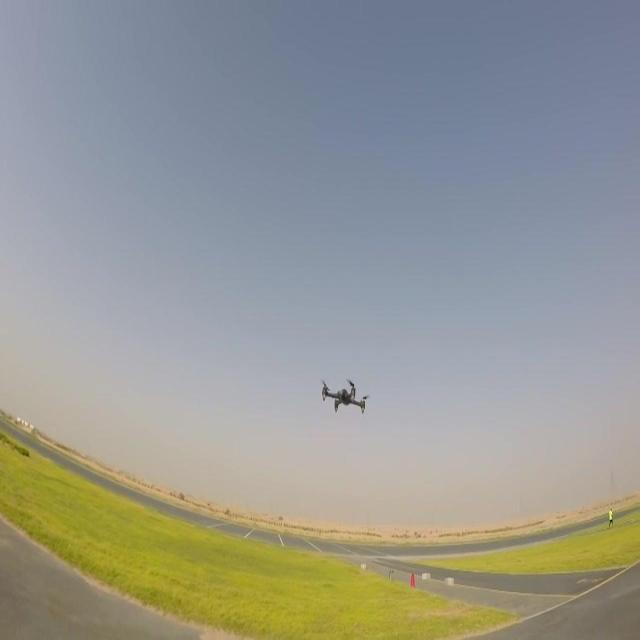drone: (321, 375, 372, 418)
